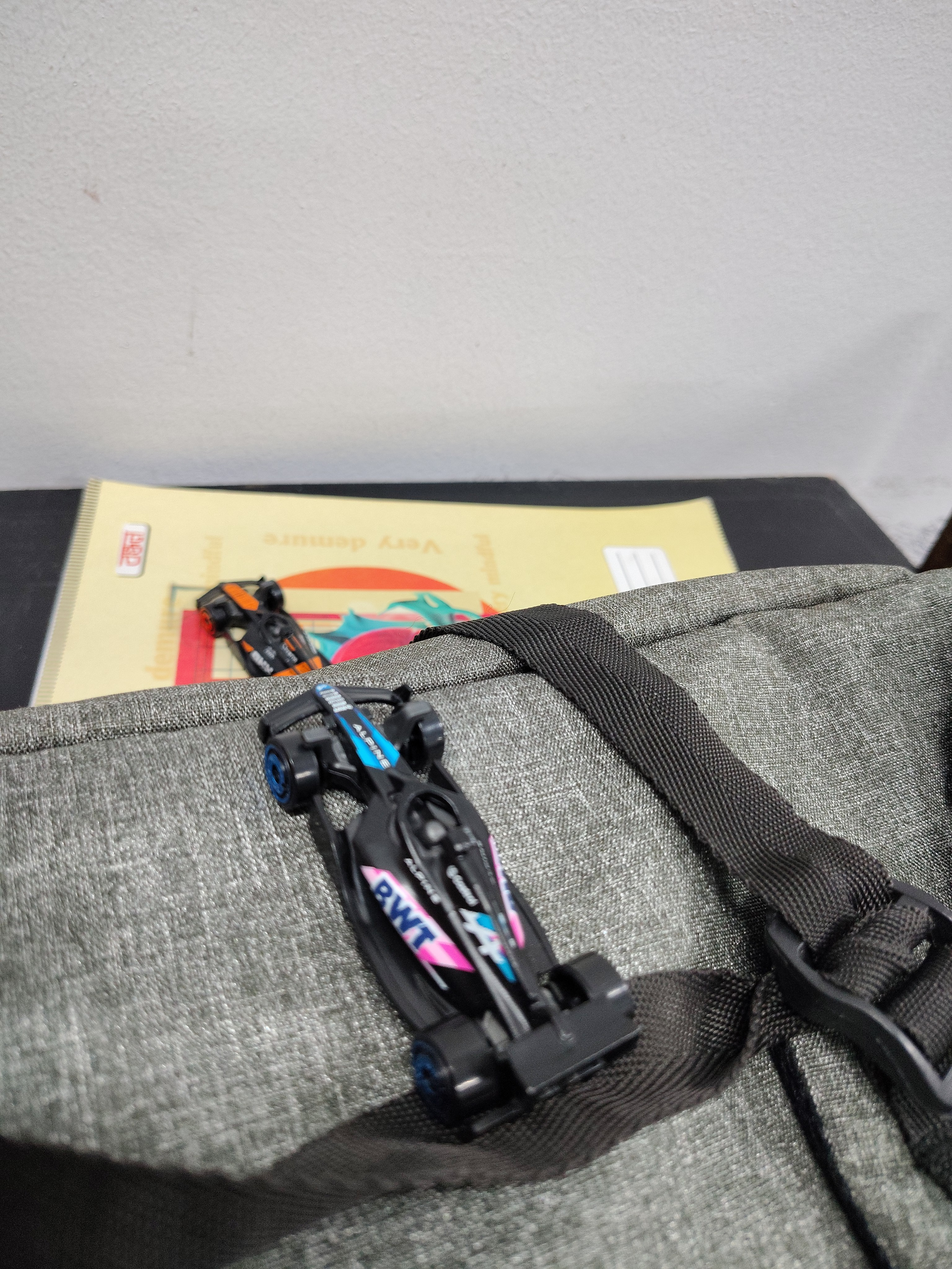Alpine A524: (189, 651, 708, 1111)
McLaren MCL40: (126, 558, 406, 694)
